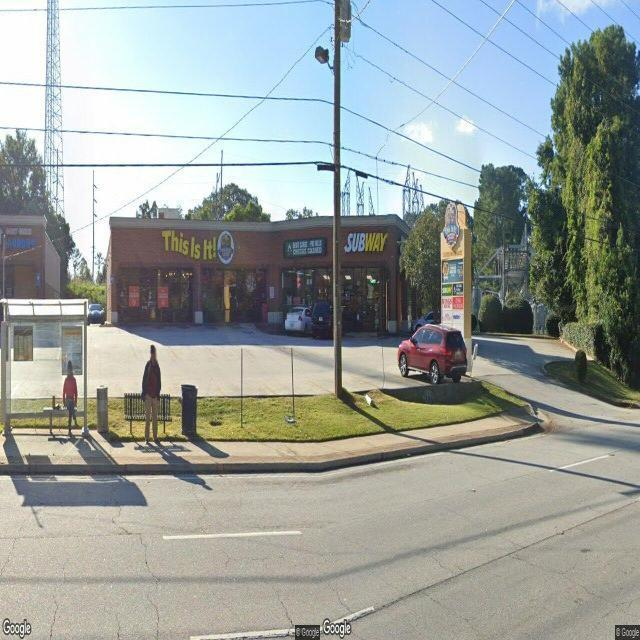seating: (124, 392, 173, 434), (42, 402, 80, 437)
shelter: (0, 298, 90, 438)
trash_can: (180, 384, 198, 436), (96, 384, 108, 432)
